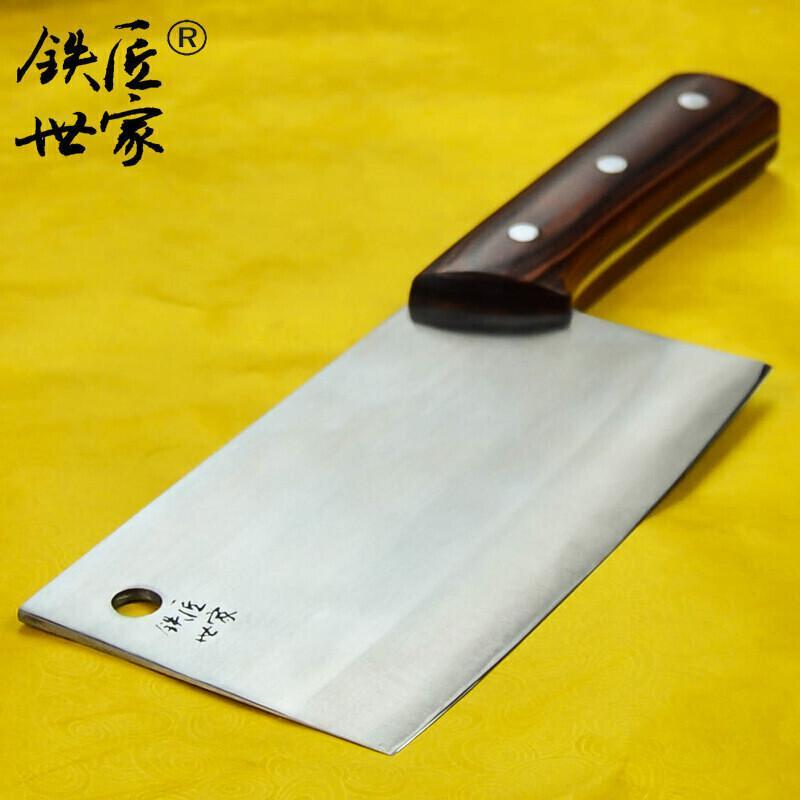knief: (43, 79, 782, 734)
